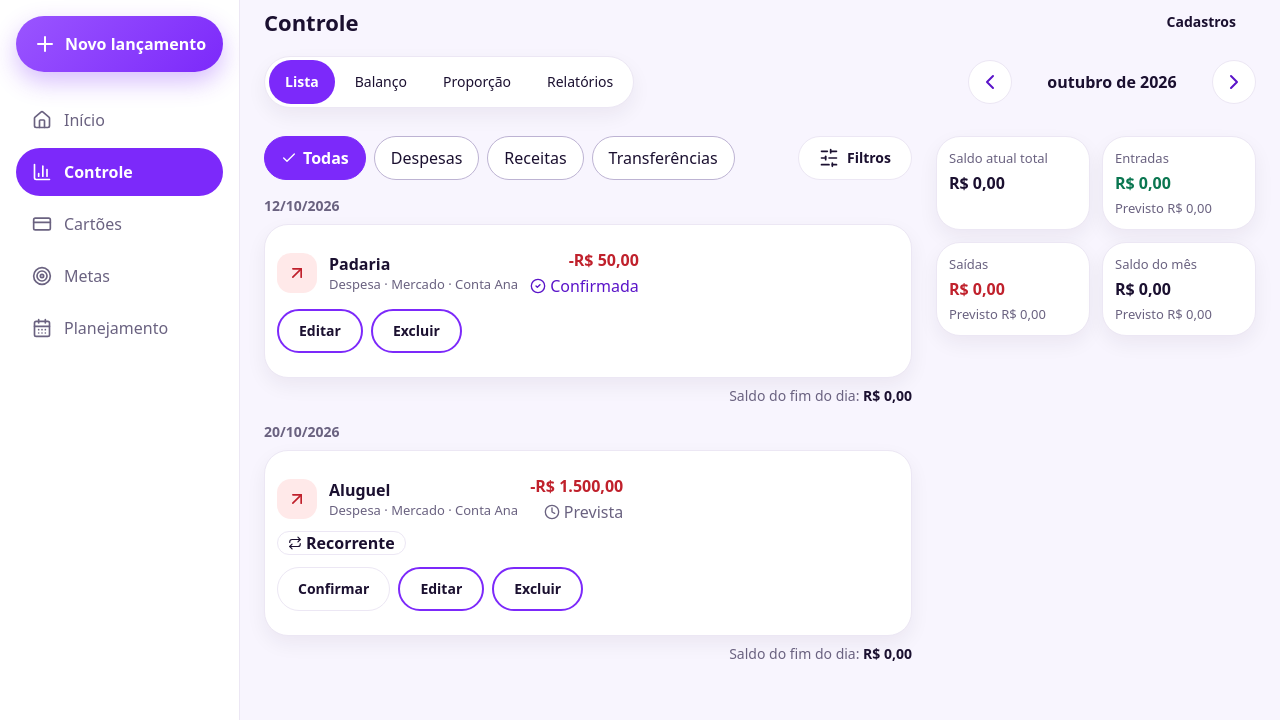
Test: alcance perguntado só para recorrente (CA-0.10, CA-3.07) › editar ocorrência de recorrente pergunta o alcance com as 3 opções
The width and height of the screenshot is (1280, 720).
Check: the text "Aluguel" is shown, box [329,479,390,501]
Click the button "Editar" below "20/10/2026" at (441, 589), box [398,567,484,611]
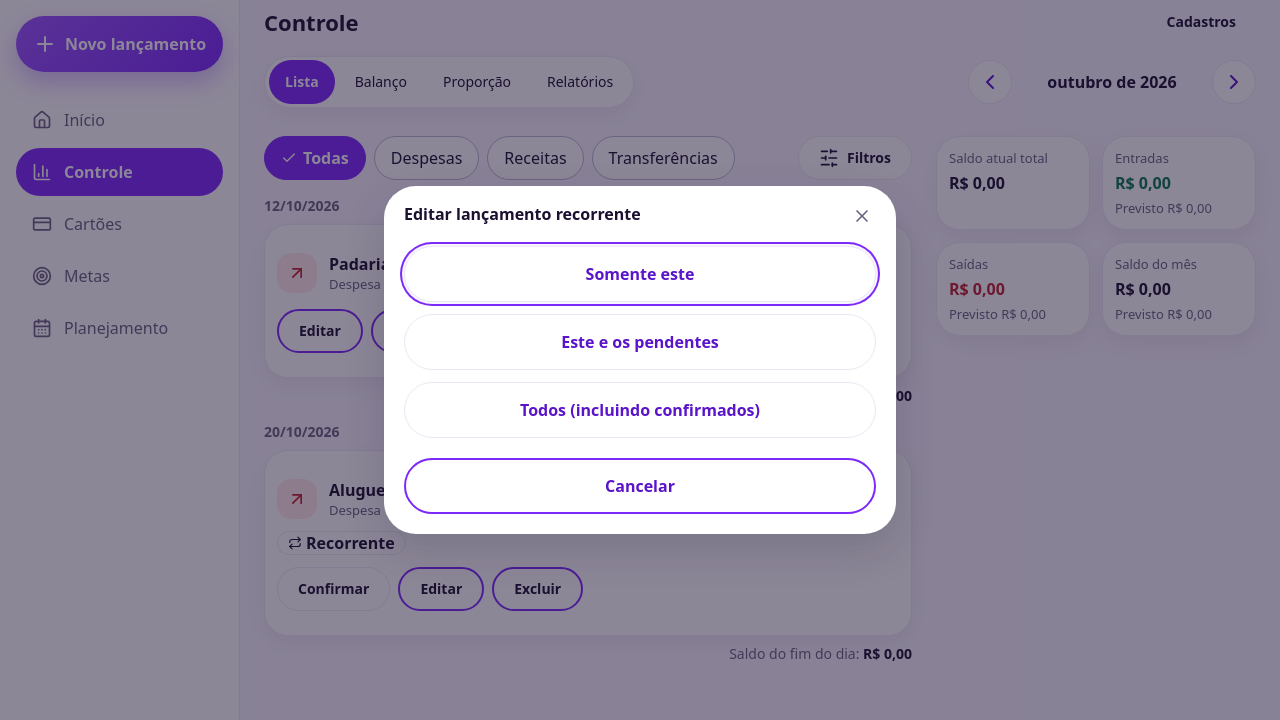
Check: the number of buttons "Somente este" is 3, box [404,246,876,302]; [404,314,876,370]; [404,382,876,438]
